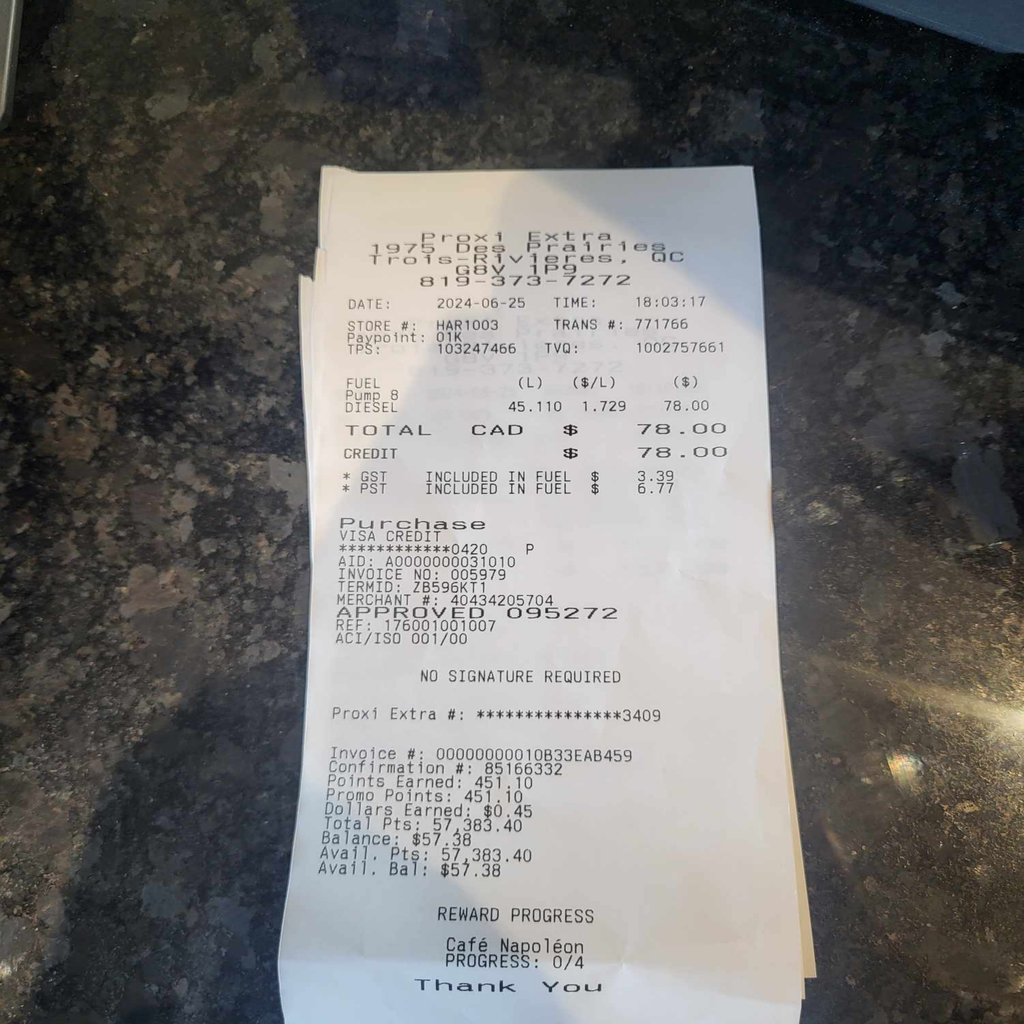recipt: (273, 160, 800, 1020)
